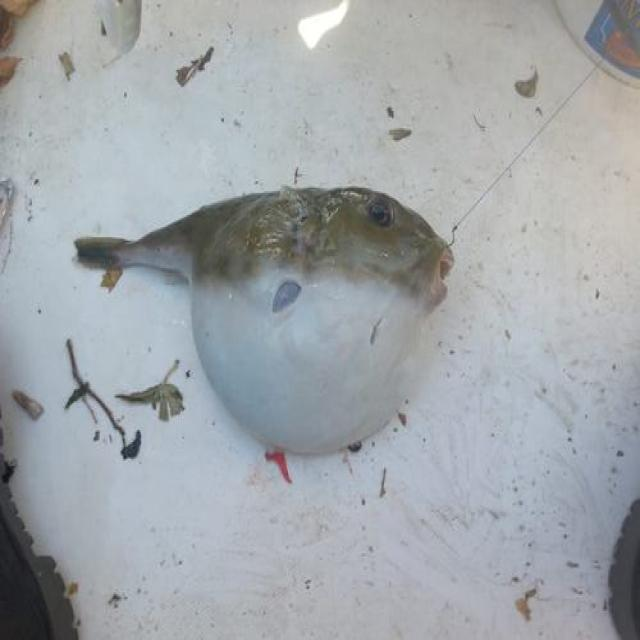Balik: (76, 188, 453, 453)
